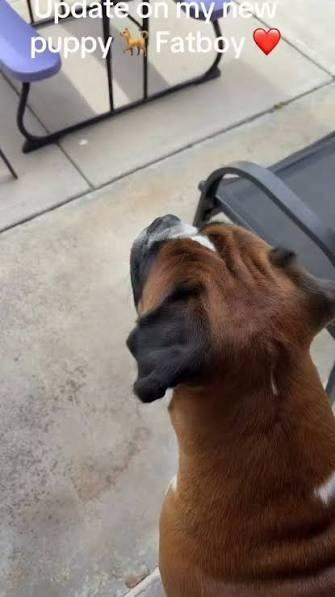adult_dog: (129, 214, 335, 597)
